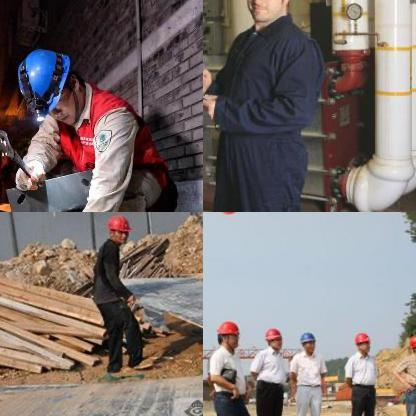Helmet: (12, 42, 72, 112), (239, 0, 302, 25), (214, 316, 239, 350), (104, 212, 131, 243), (351, 327, 371, 353), (296, 328, 316, 352), (262, 325, 282, 349), (407, 333, 415, 358), (214, 212, 241, 217)
